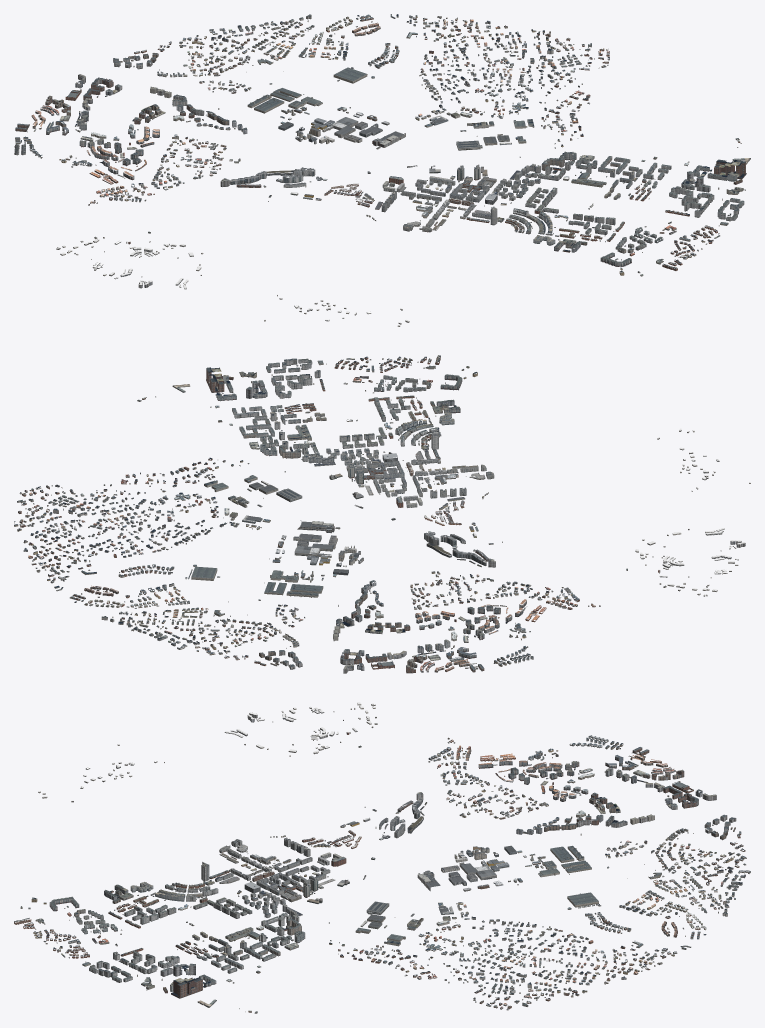
The model's file is district.glb.
3 views of the same model, one above another, from view 1: azimuth 30°, elevation 25°; view 2: azimuth 150°, elevation 25°; view 3: azimuth 270°, elevation 25° (orthographic).
Size of the model in its own units: 2921 by 74.72 by 2931.
Materials: 5 (5 with a texture image).
